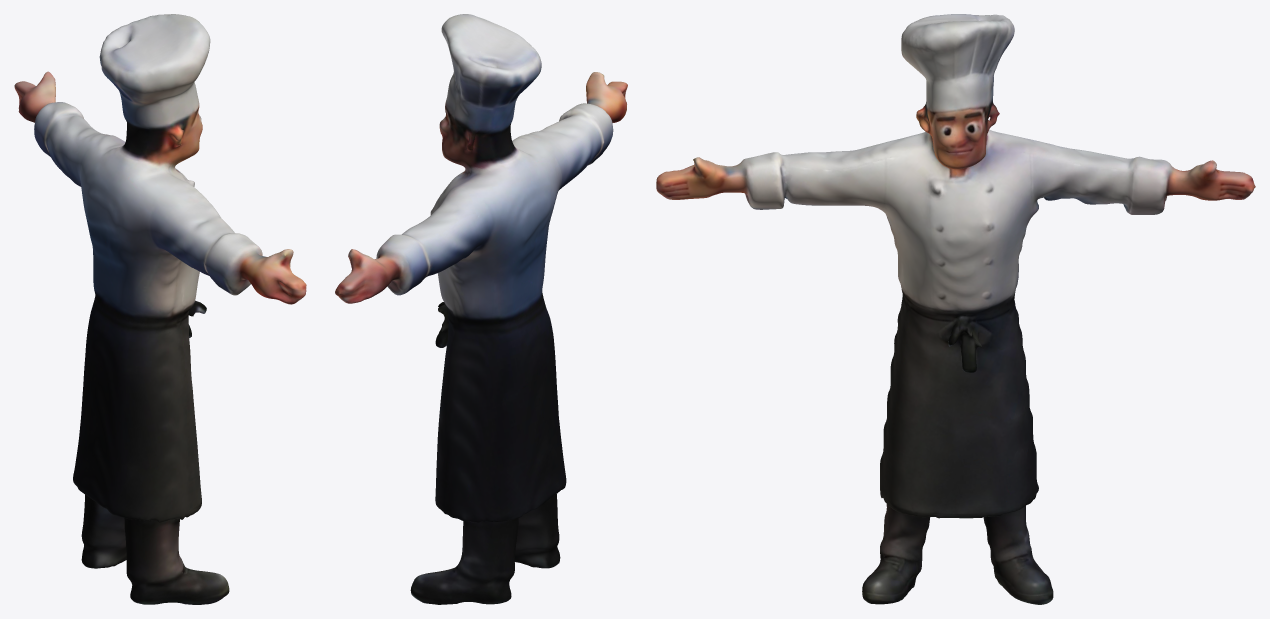
The model's file is avatar_bakemester.glb.
The picture shows the model from 3 angles, left to right: view 1: azimuth 30°, elevation 25°; view 2: azimuth 150°, elevation 25°; view 3: azimuth 270°, elevation 25°; orthographic projection. The views are drawn at different scales.
Visible parts, largest first — view 1: tripo_node_533aeeac-18a5-4857-b82c-e4b8bd0375fa; view 2: tripo_node_533aeeac-18a5-4857-b82c-e4b8bd0375fa; view 3: tripo_node_533aeeac-18a5-4857-b82c-e4b8bd0375fa.
Part boxes in pixels (<box>): tripo_node_533aeeac-18a5-4857-b82c-e4b8bd0375fa: <box>14,14,306,604</box>; tripo_node_533aeeac-18a5-4857-b82c-e4b8bd0375fa: <box>335,14,627,604</box>; tripo_node_533aeeac-18a5-4857-b82c-e4b8bd0375fa: <box>656,14,1255,604</box>.
Bounding box in the file's own units: 0.1709 × 0.7813 × 0.7274.
Materials: 1 (1 with a texture image).
